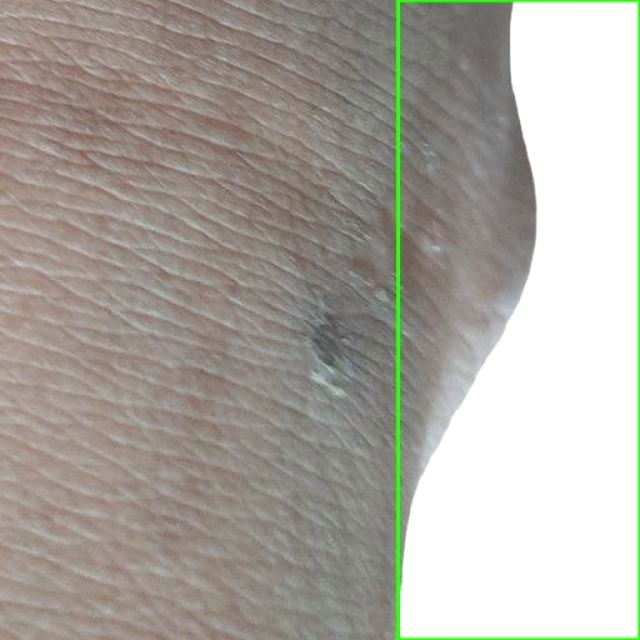Scabies: (398, 0, 639, 639)
